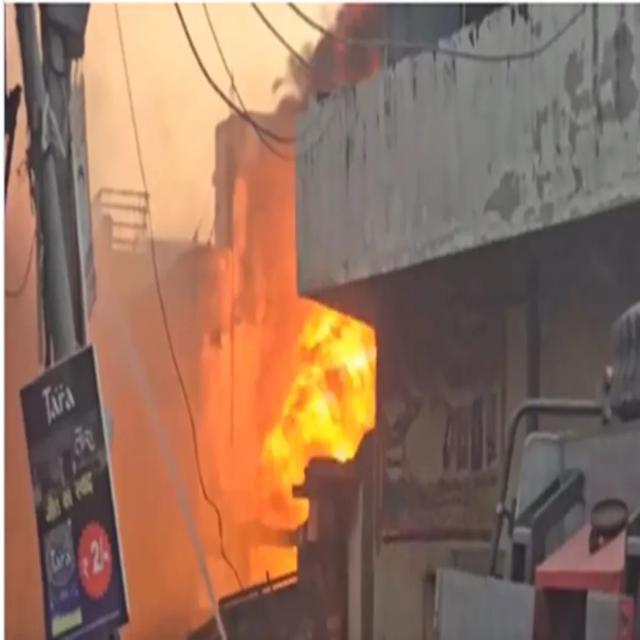fire: (260, 303, 376, 586)
